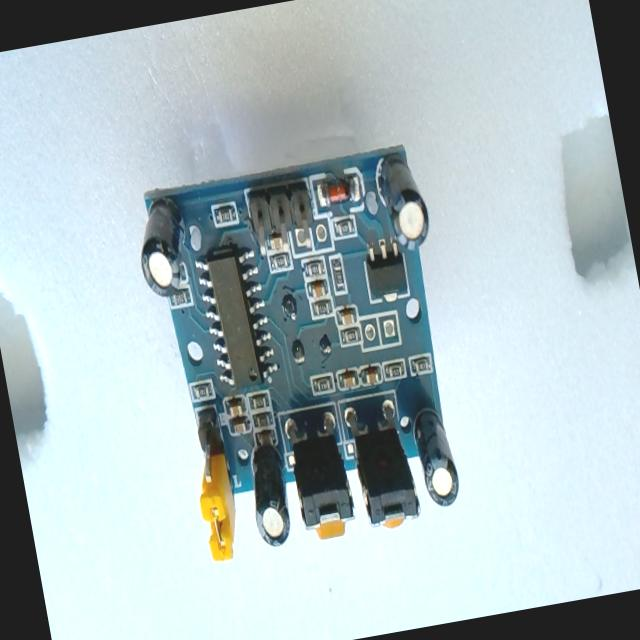Electrolytic capacitor: (407, 390, 464, 510), (242, 418, 294, 548), (380, 137, 436, 248), (134, 178, 189, 288)
IC: (188, 242, 281, 398)
